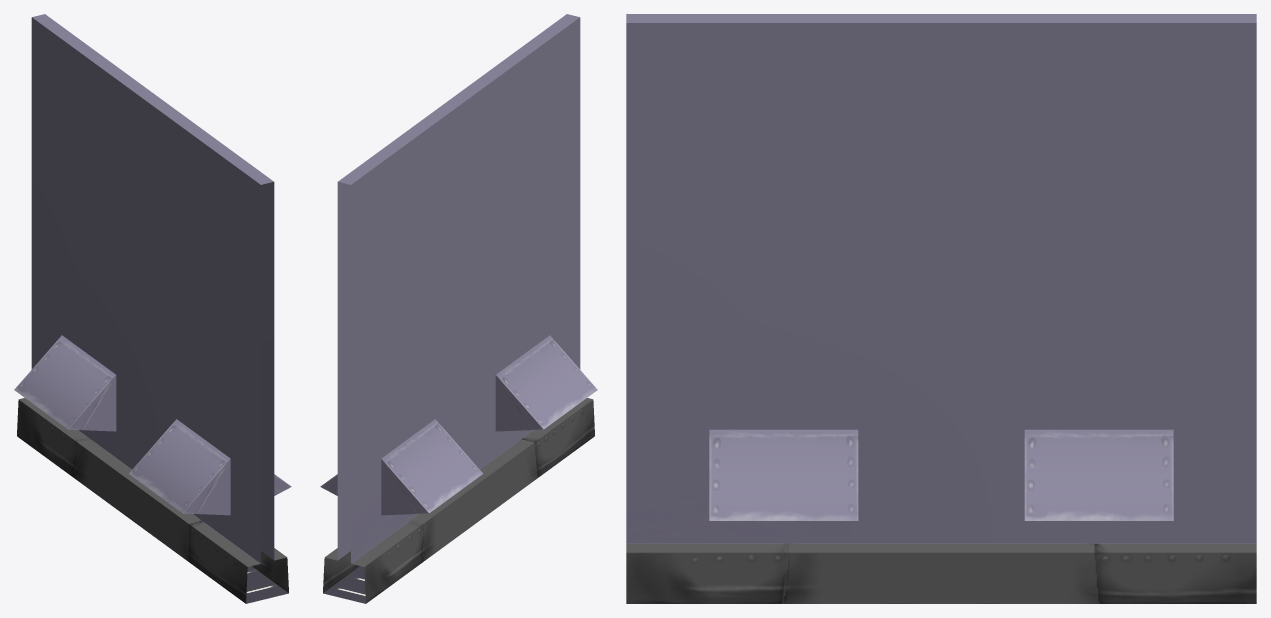
Rendered from walldoor01.fbx.
3 views of the same model, side by side, from view 1: azimuth 30°, elevation 25°; view 2: azimuth 150°, elevation 25°; view 3: azimuth 270°, elevation 25° (orthographic). The views are drawn at different scales.
Parts seen in each view (by area): view 1: wall; view 2: wall; view 3: wall.
Boxes of the visible parts, <box> form: wall: <box>14,14,291,603</box>; wall: <box>320,14,597,603</box>; wall: <box>626,14,1256,603</box>.
Size of the model in its own units: 0.5499 by 2 by 2.
Materials: 1 (1 with a texture image).
